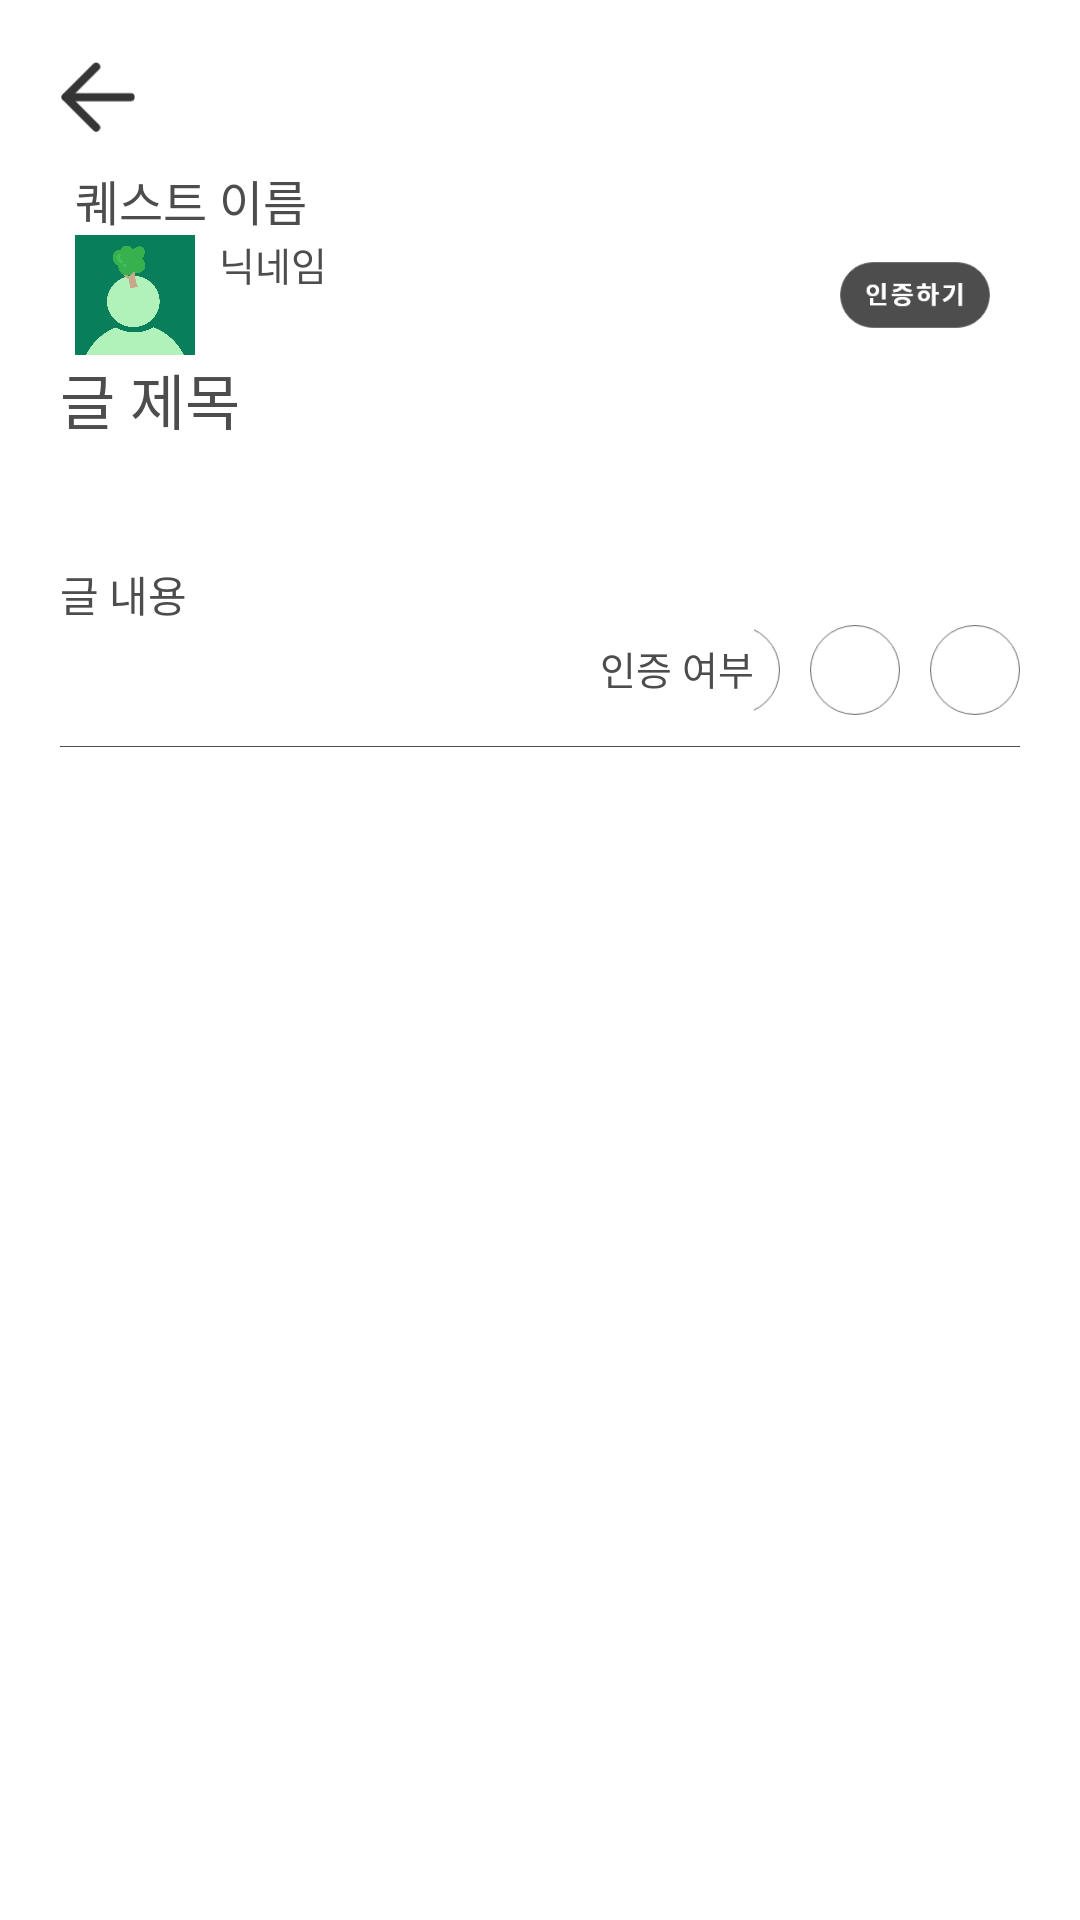

Icon click points for this 1080x1920 phone screenshot, format [x,y]:
backbutton: [98,97]
defaultuser: [135,295]
